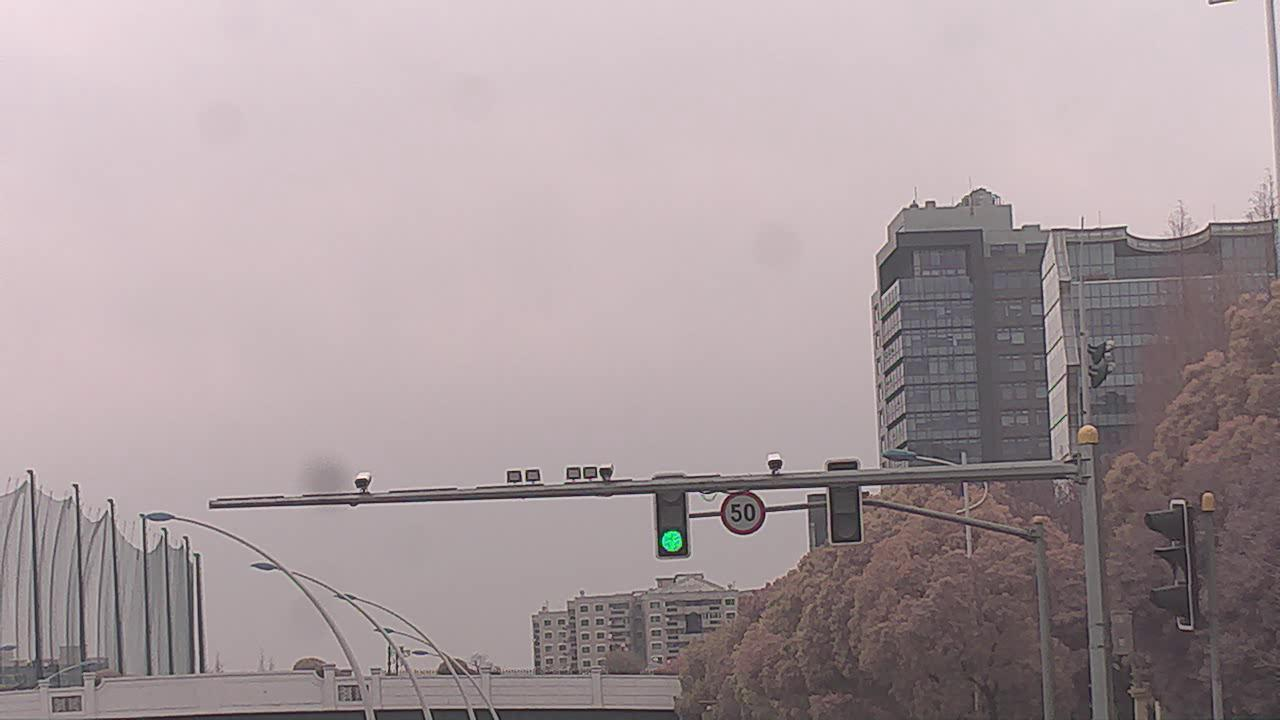traffic_light: (656, 479, 693, 558), (825, 465, 861, 546)
